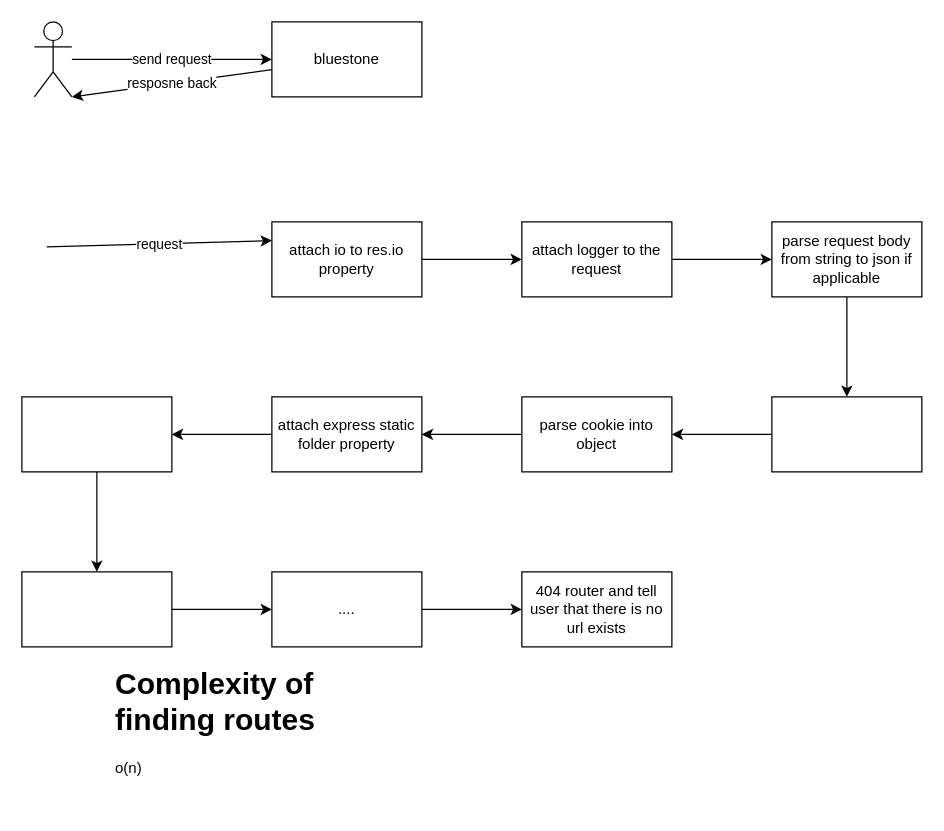
This 944x831 diagram has some shape labels left out. The centre of each missing label's shape, as x and y in pixels:
"Actor" belongs at point 52,59.
"encode url information" belongs at point 846,434.
"go to first router" belongs at point 96,434.
"go to userRouter" belongs at point 96,609.
